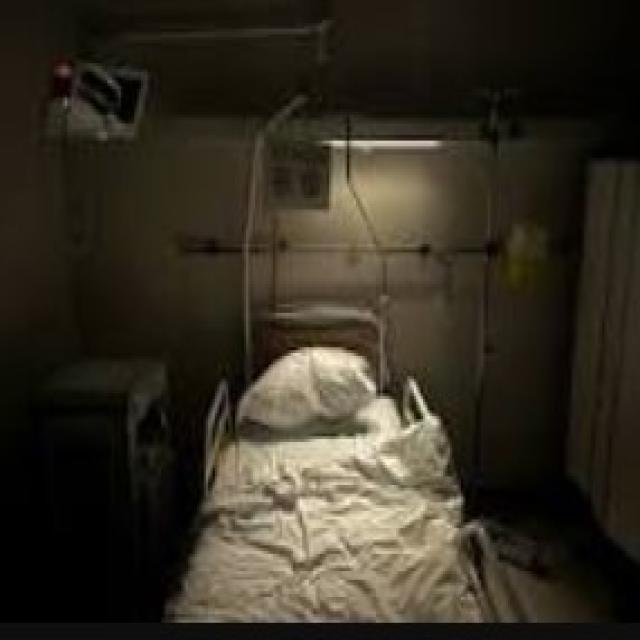bed: (157, 335, 510, 640)
